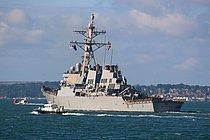MIL_Ship: (39, 13, 186, 115)
